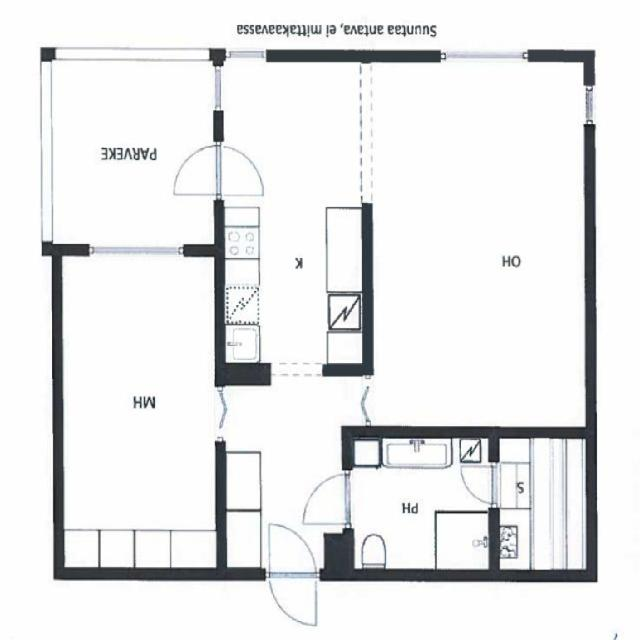door: (258, 515, 324, 631), (298, 466, 358, 534), (212, 138, 268, 208), (167, 139, 223, 203), (456, 459, 504, 507)
window: (24, 56, 66, 250), (344, 58, 378, 212), (57, 41, 210, 72), (82, 236, 194, 265), (436, 44, 532, 68), (266, 353, 328, 385), (208, 378, 235, 450), (219, 42, 274, 66), (208, 58, 228, 115), (579, 82, 600, 129)
zone: (59, 229, 224, 569), (222, 54, 368, 388), (41, 50, 225, 245), (344, 432, 494, 575), (491, 432, 593, 574)
